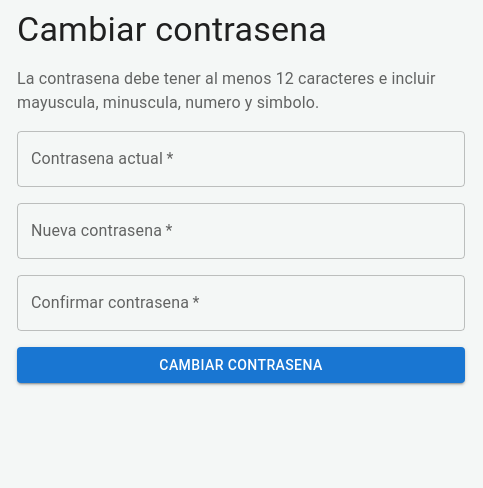
Test case: CambiarContrasenaPage › validates the new password and confirmation before sending it to Auth
Type "ContrasenaActual1!" into the password field labelled "Contrasena actual *" at x=241, y=159, box [17, 131, 465, 187]
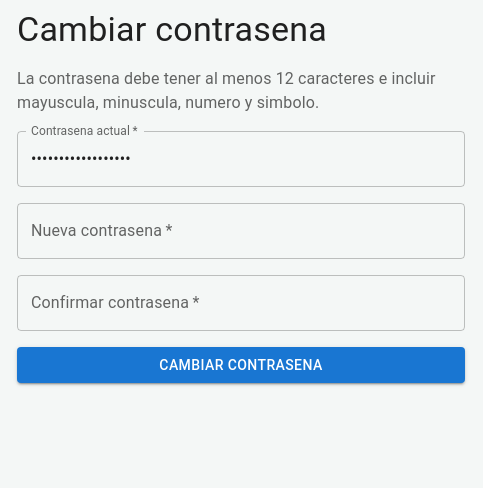
Type "corta1!" into the password field labelled "Nueva contrasena *" at x=241, y=231, box [17, 203, 465, 259]
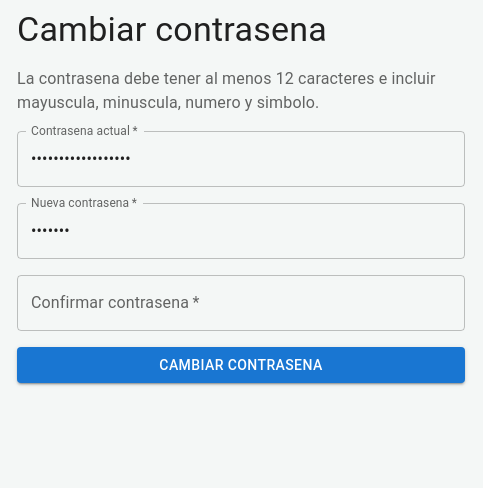
Type "corta1!" into the password field labelled "Confirmar contrasena *" at x=241, y=303, box [17, 275, 465, 331]
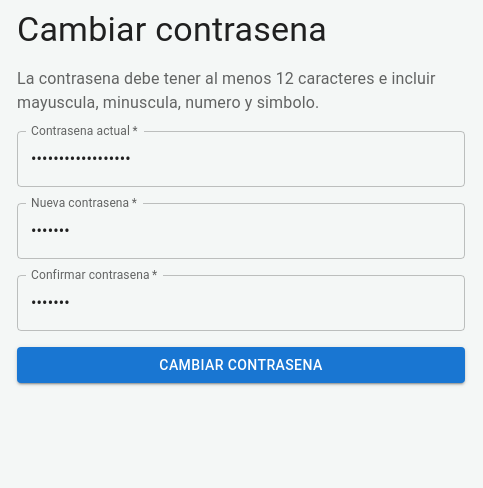
Click the button "Cambiar contrasena" at x=241, y=365, box [17, 347, 465, 384]
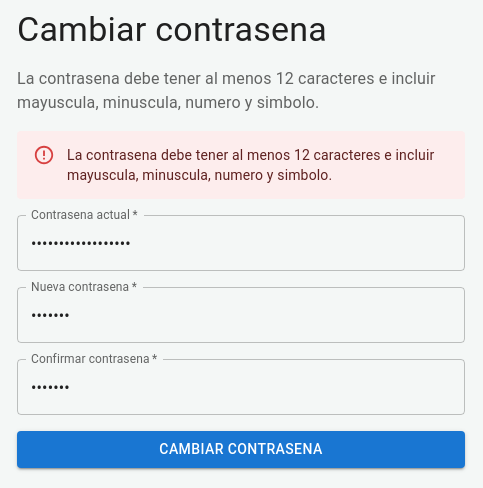
Check: the message shows "al menos 12 caracteres", box [67, 147, 434, 183]
